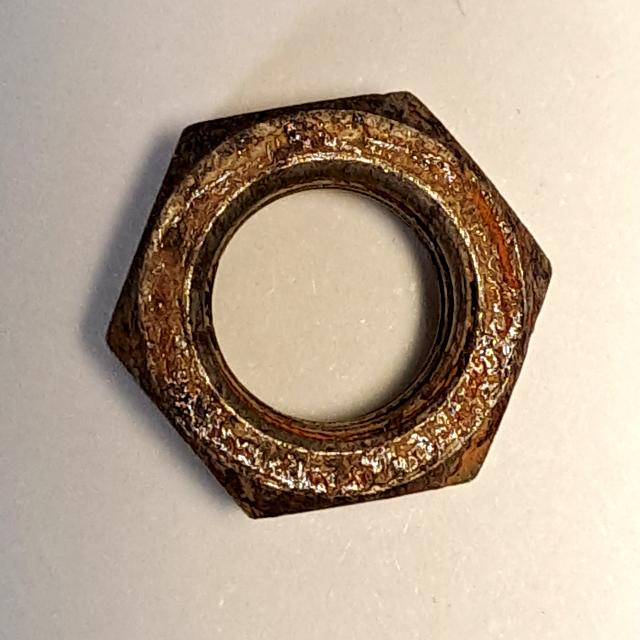Rust: (94, 68, 567, 536)
